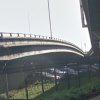Bridge: (2, 25, 84, 73)
